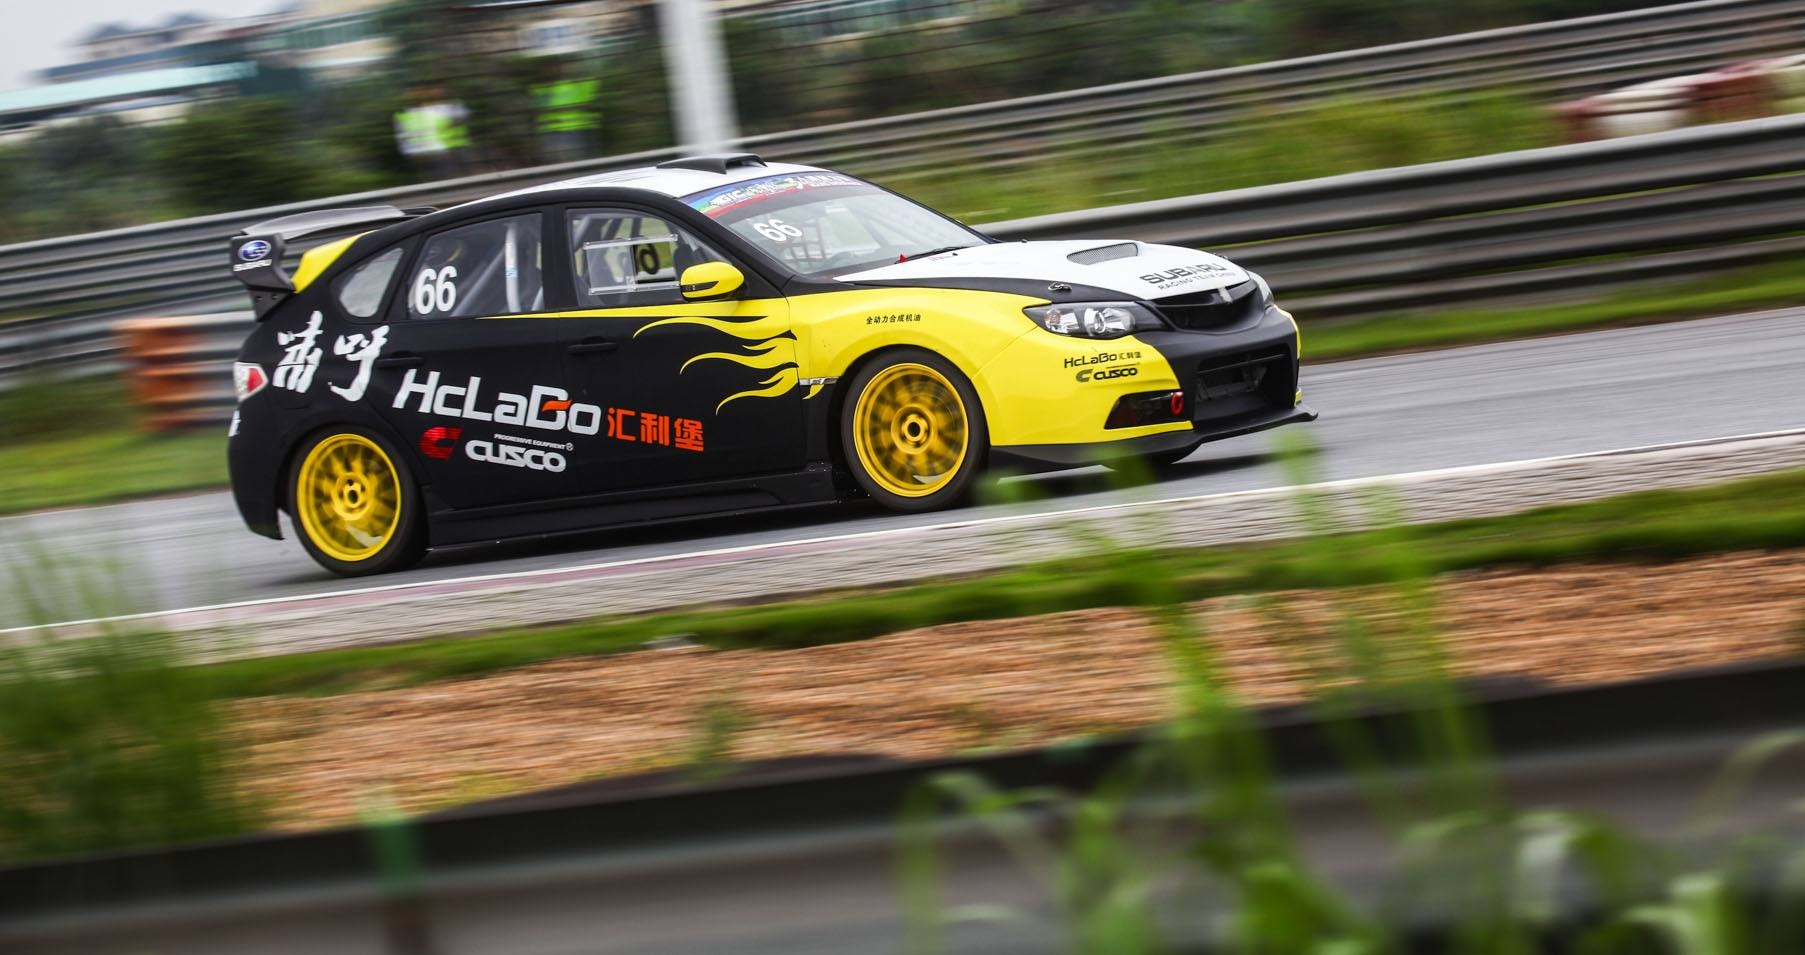racing car: (209, 150, 1325, 540)
